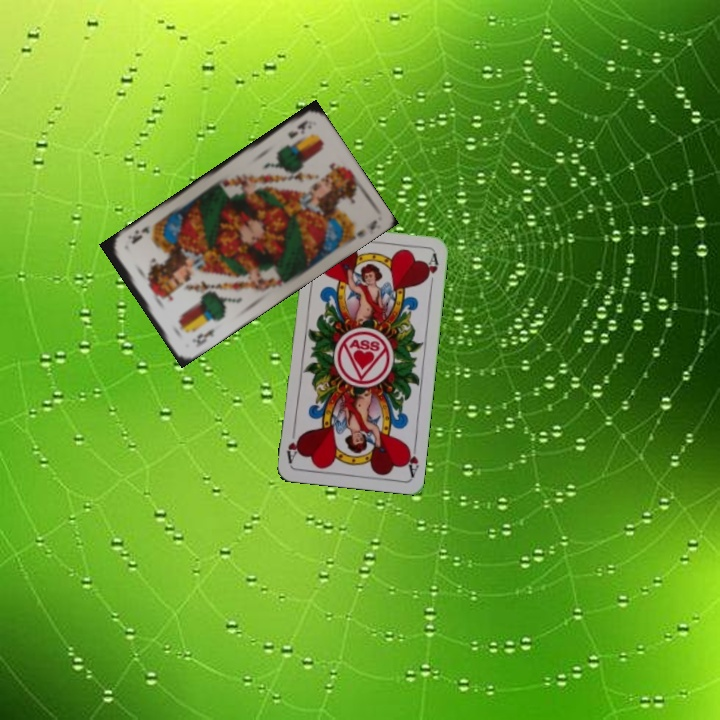EK: (188, 324, 218, 350), (284, 116, 310, 141)
HA: (401, 438, 421, 479)
